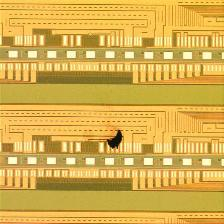PARTICLE: (104, 129, 127, 151)
